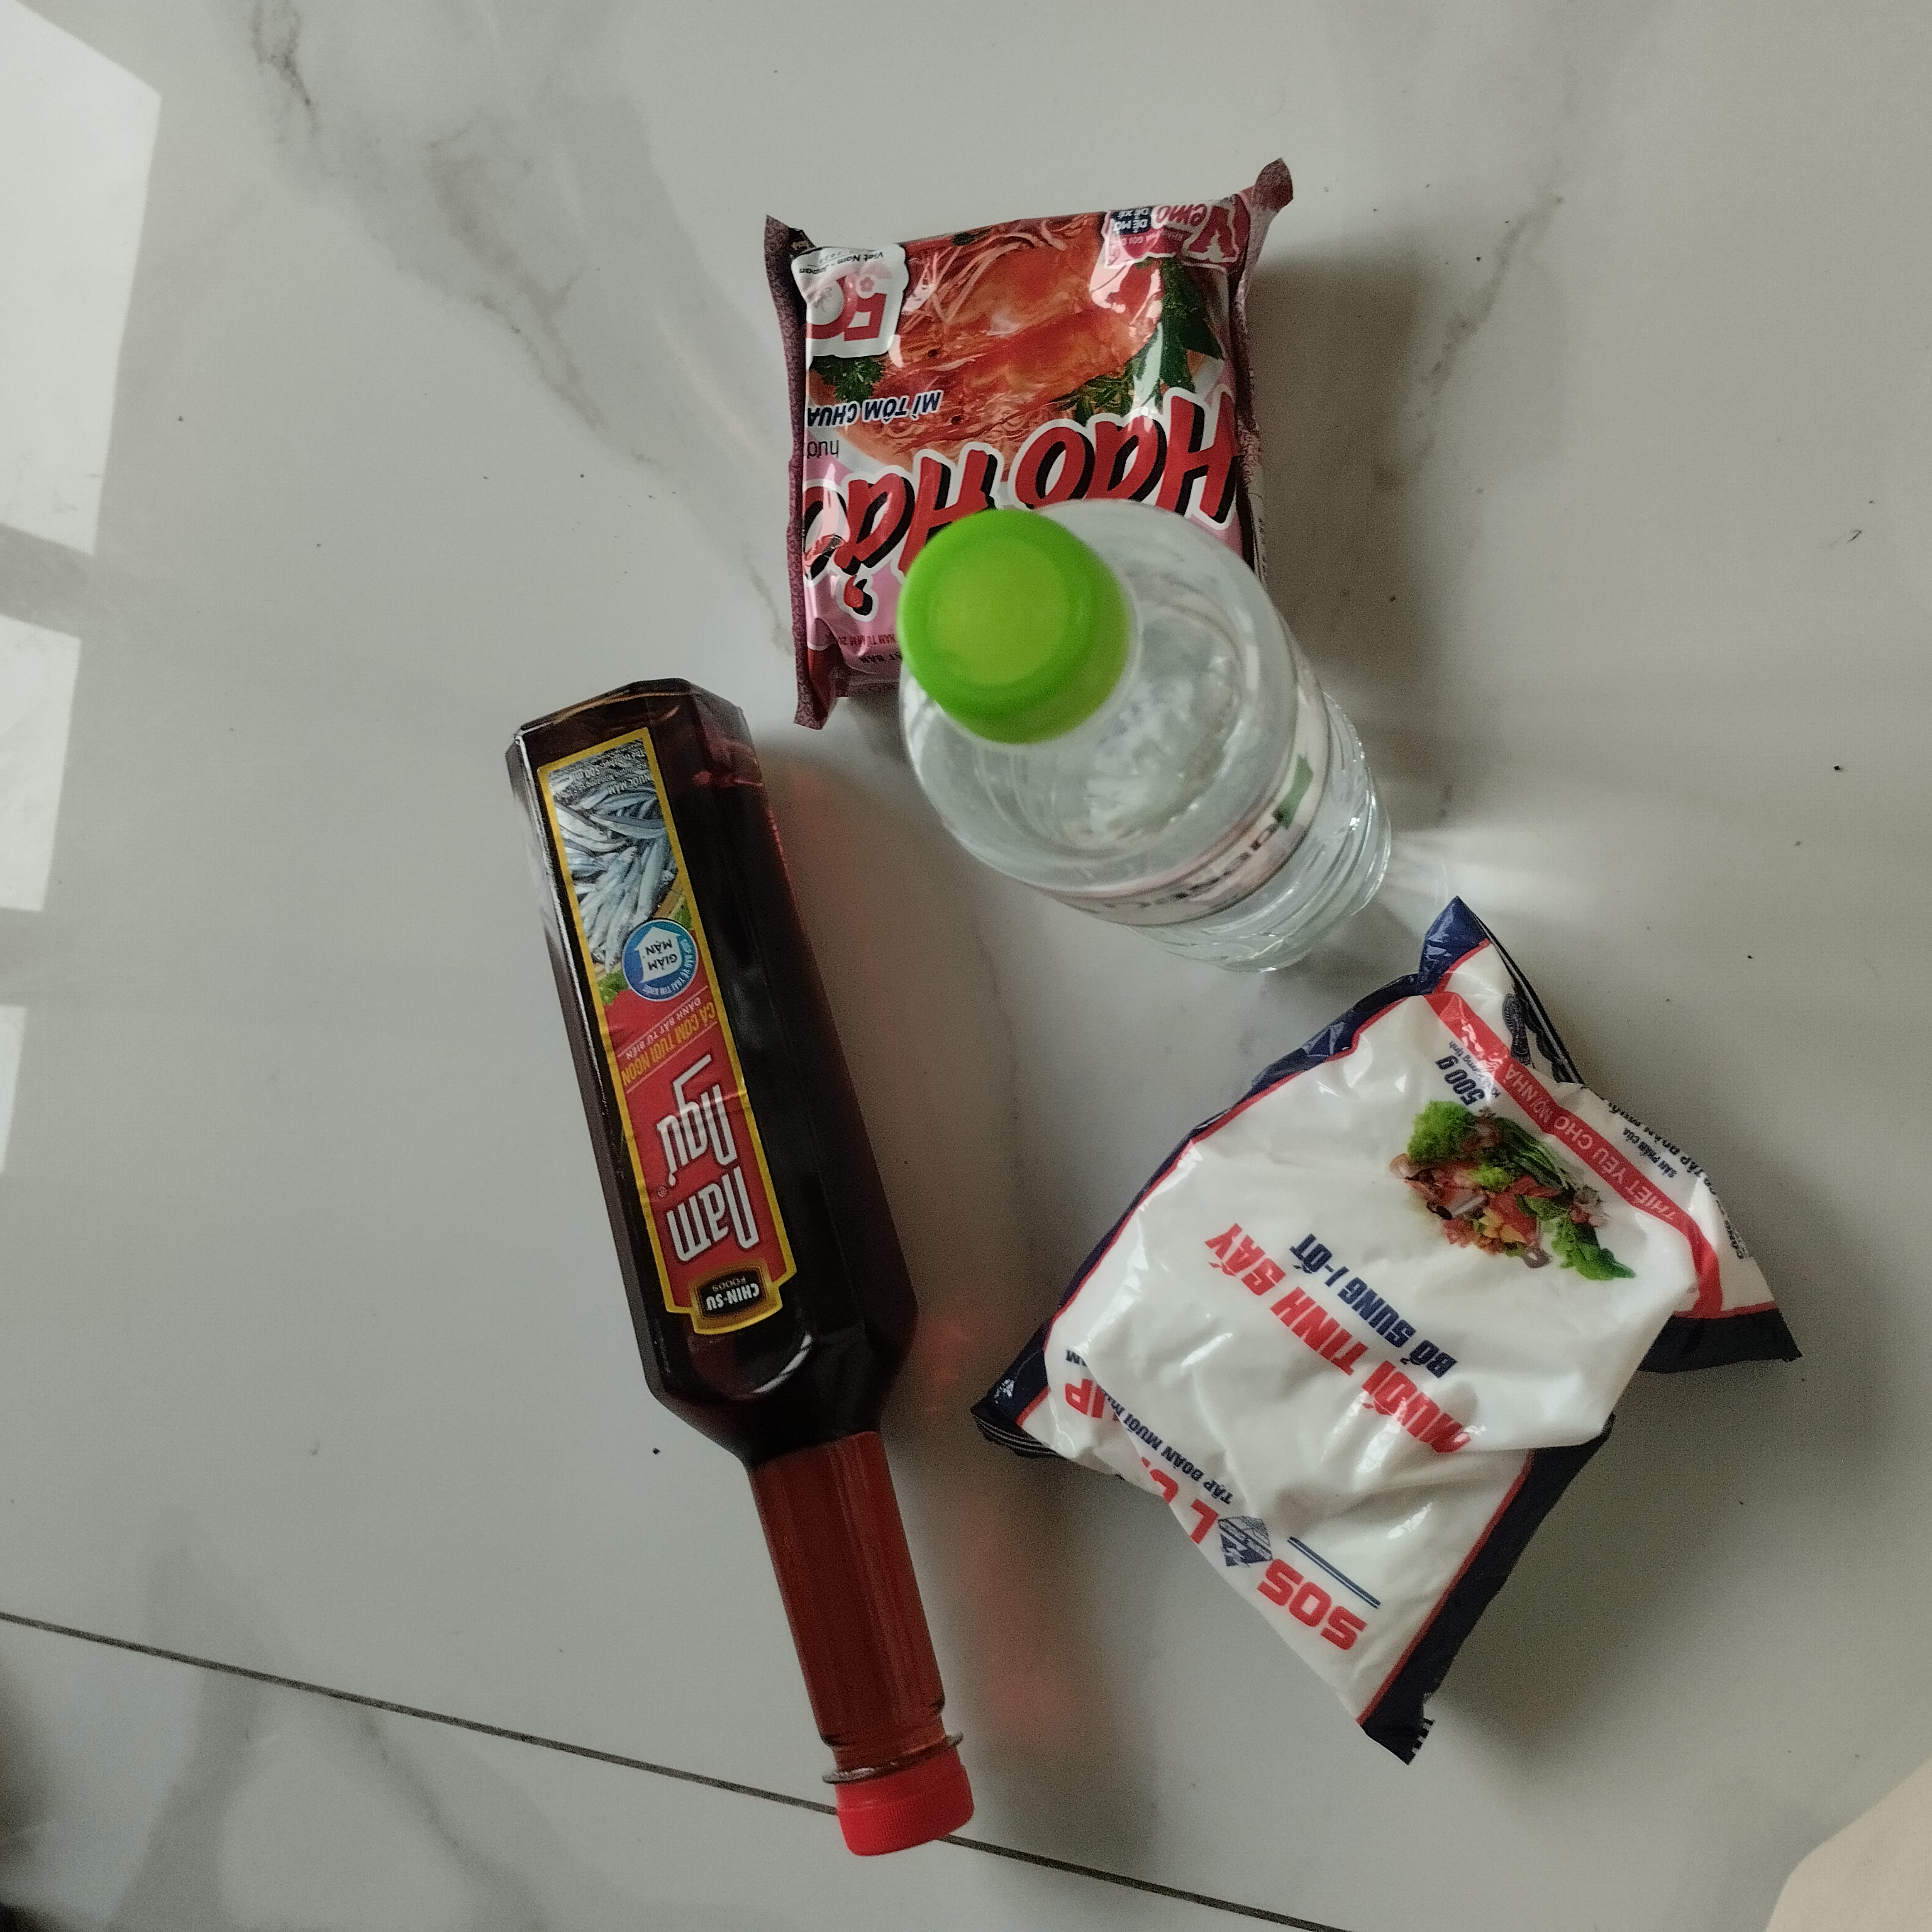Dasani: (897, 495, 1391, 975)
Haohao: (745, 161, 1322, 736)
Namngu: (481, 679, 1016, 1856)
Salt: (945, 897, 1808, 1769)
